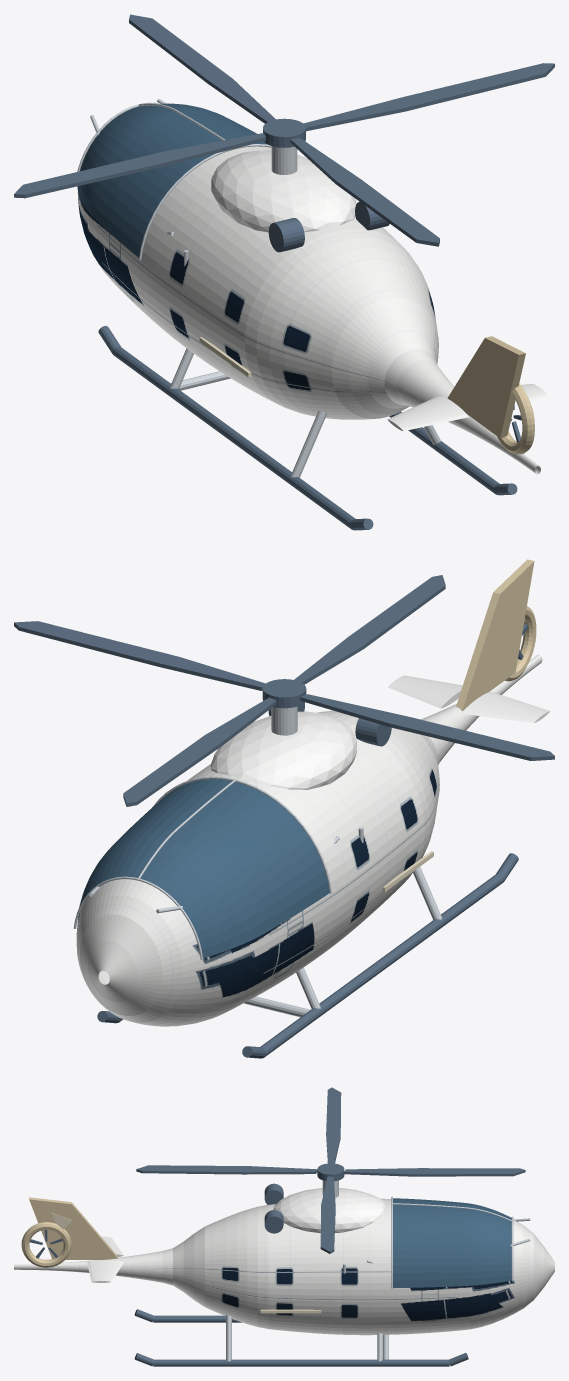
File: 10_executive_vip.glb
The picture shows the model from 3 angles, top to bottom: view 1: azimuth 30°, elevation 25°; view 2: azimuth 150°, elevation 25°; view 3: azimuth 270°, elevation 25°; orthographic projection. The views are drawn at different scales.
Visible parts, largest first — view 1: textured_airframe, rotor_main, glass-details, body-details, dark-details, accent-details, metal-details; view 2: textured_airframe, glass-details, rotor_main, body-details, accent-details, dark-details, metal-details; view 3: textured_airframe, glass-details, rotor_main, dark-details, body-details, accent-details, metal-details, trim-details.
Boxes of the visible parts, x1=… form: textured_airframe: x1=77, y1=146, x2=540, y2=474; rotor_main: x1=14, y1=14, x2=554, y2=246; glass-details: x1=77, y1=103, x2=267, y2=257; body-details: x1=211, y1=150, x2=548, y2=431; dark-details: x1=98, y1=201, x2=517, y2=530; accent-details: x1=447, y1=336, x2=534, y2=454; metal-details: x1=77, y1=98, x2=440, y2=477; textured_airframe: x1=76, y1=654, x2=542, y2=1026; glass-details: x1=79, y1=779, x2=329, y2=958; rotor_main: x1=14, y1=575, x2=554, y2=806; body-details: x1=210, y1=675, x2=549, y2=789; accent-details: x1=456, y1=559, x2=536, y2=711; dark-details: x1=97, y1=702, x2=518, y2=1058; metal-details: x1=73, y1=706, x2=441, y2=1017; textured_airframe: x1=14, y1=1198, x2=554, y2=1335; glass-details: x1=393, y1=1198, x2=511, y2=1288; rotor_main: x1=136, y1=1087, x2=525, y2=1253; dark-details: x1=134, y1=1183, x2=468, y2=1366; body-details: x1=87, y1=1188, x2=384, y2=1282; accent-details: x1=21, y1=1197, x2=118, y2=1267; metal-details: x1=226, y1=1180, x2=530, y2=1361; trim-details: x1=52, y1=1213, x2=321, y2=1313.
Size of the model in its own units: 11.5 by 5.72 by 15.98.
Materials: 8 (1 with a texture image).
